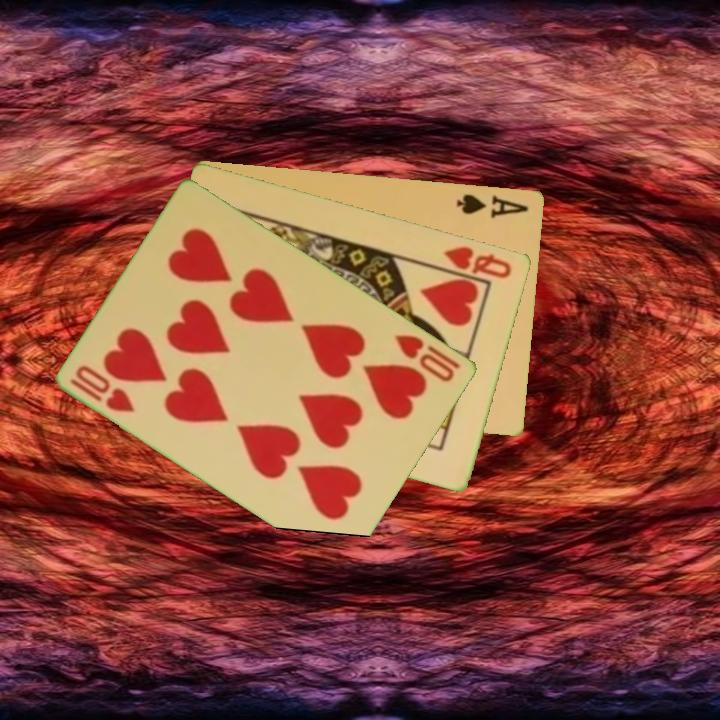10h: (391, 330, 464, 385), (66, 361, 138, 415)
As: (453, 190, 532, 220)
Qh: (440, 242, 515, 282)
